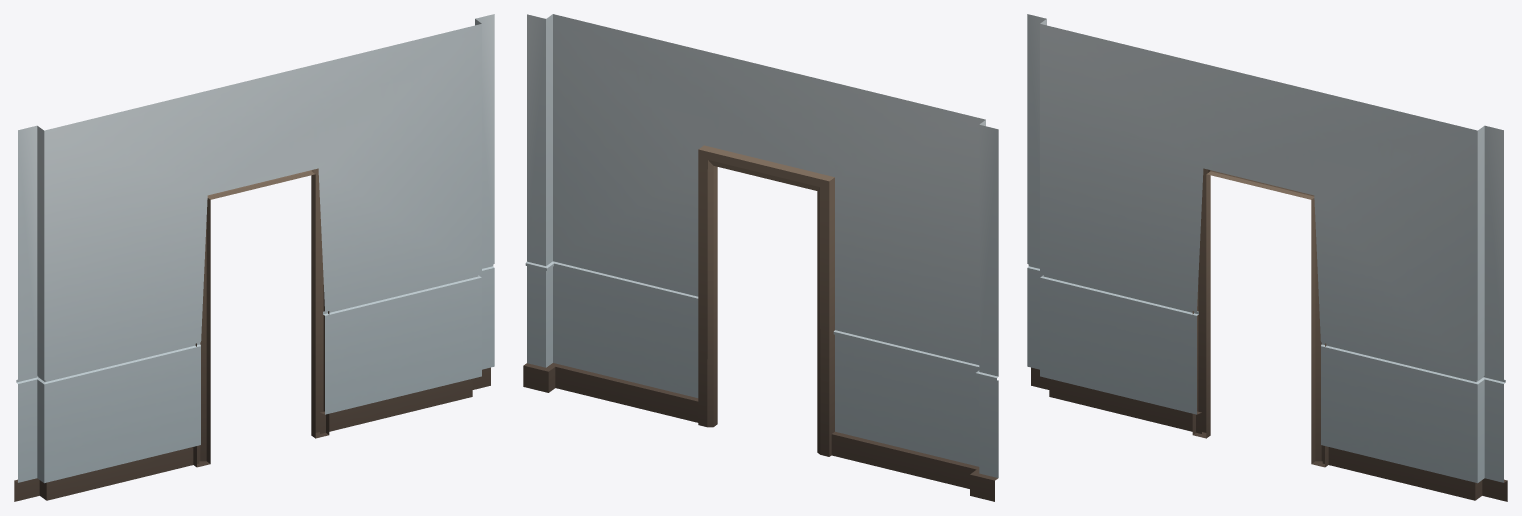
File: 4m_doorswall.fbx
3 renders of one model, left to right at view 1: azimuth 30°, elevation 25°; view 2: azimuth 150°, elevation 25°; view 3: azimuth 330°, elevation 25°, orthographic.
Visible parts, largest first — view 1: 4m_doorswall; view 2: 4m_doorswall; view 3: 4m_doorswall.
Part boxes in pixels (box(x1,y1,x2,y2)): 4m_doorswall: box(14, 14, 494, 501); 4m_doorswall: box(523, 14, 998, 501); 4m_doorswall: box(1027, 14, 1507, 501).
Bounding box in the file's own units: 400 × 300 × 15.
